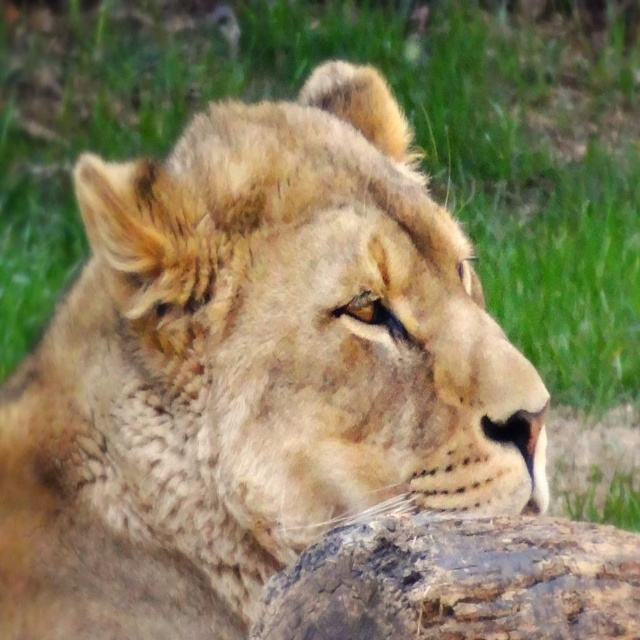Lion: (0, 60, 550, 640)
